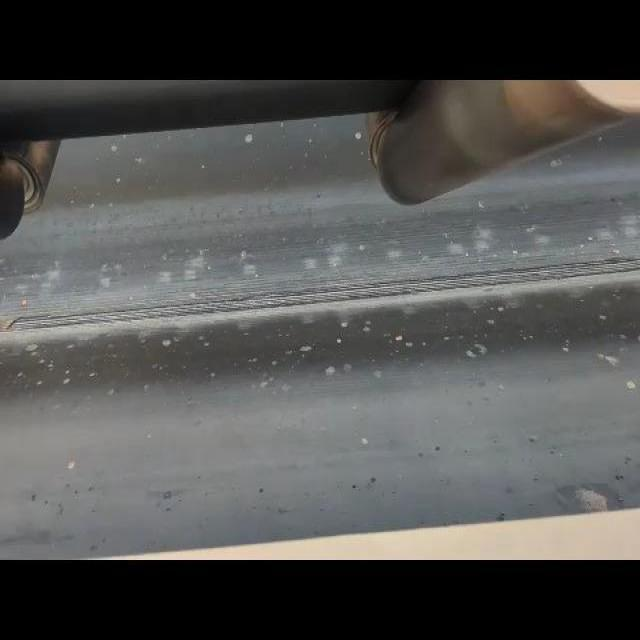Wear: (0, 256, 640, 336)
